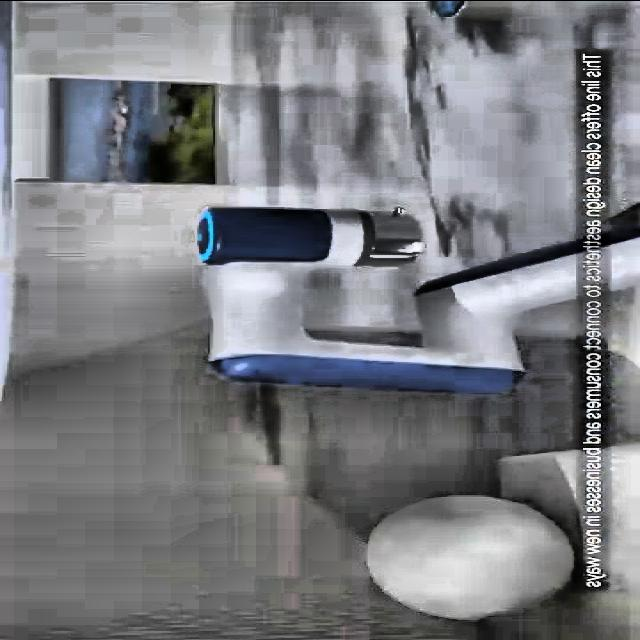robot: (194, 203, 636, 394)
